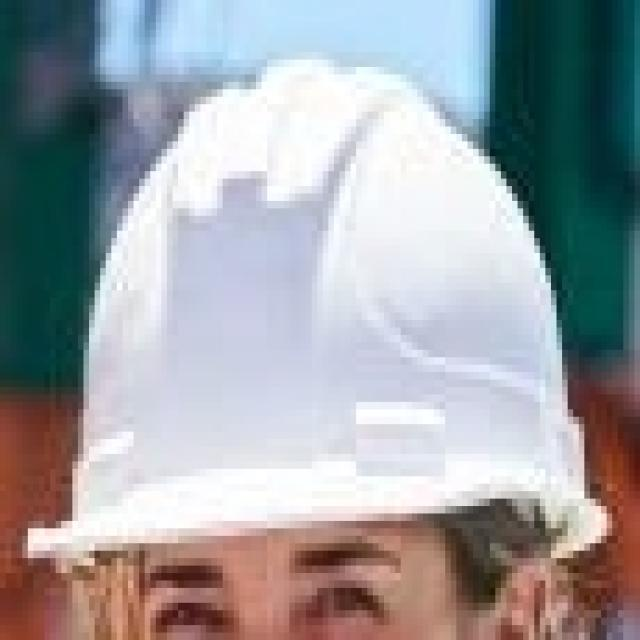safety_helmet: (70, 55, 595, 552)
